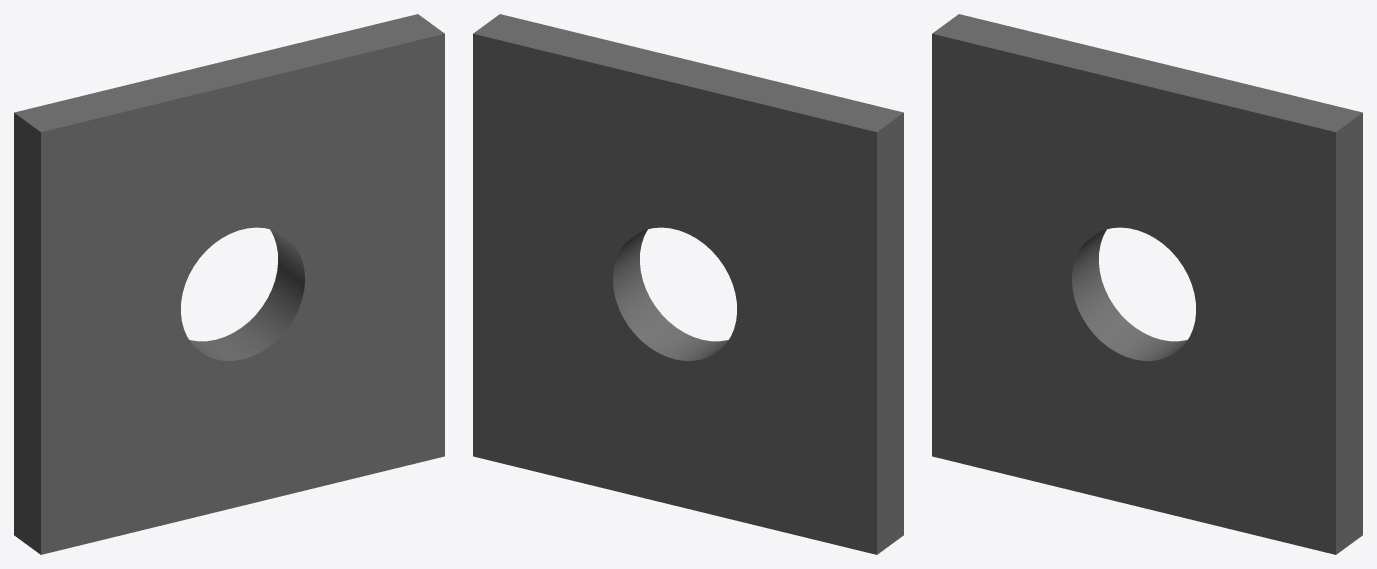
Rendered from duz_pul.glb.
The picture shows the model from 3 angles, left to right: view 1: azimuth 30°, elevation 25°; view 2: azimuth 150°, elevation 25°; view 3: azimuth 330°, elevation 25°; orthographic projection.
Parts seen in each view (by area): view 1: dÃ¼z pul.001; view 2: dÃ¼z pul.001; view 3: dÃ¼z pul.001.
Boxes of the visible parts, box(x1,y1,x2,y2) form: dÃ¼z pul.001: box(14, 14, 444, 554); dÃ¼z pul.001: box(473, 14, 903, 554); dÃ¼z pul.001: box(932, 14, 1362, 554).
Bounding box in the file's own units: 0.026 × 0.026 × 0.003.
1 material, 1 textured.
